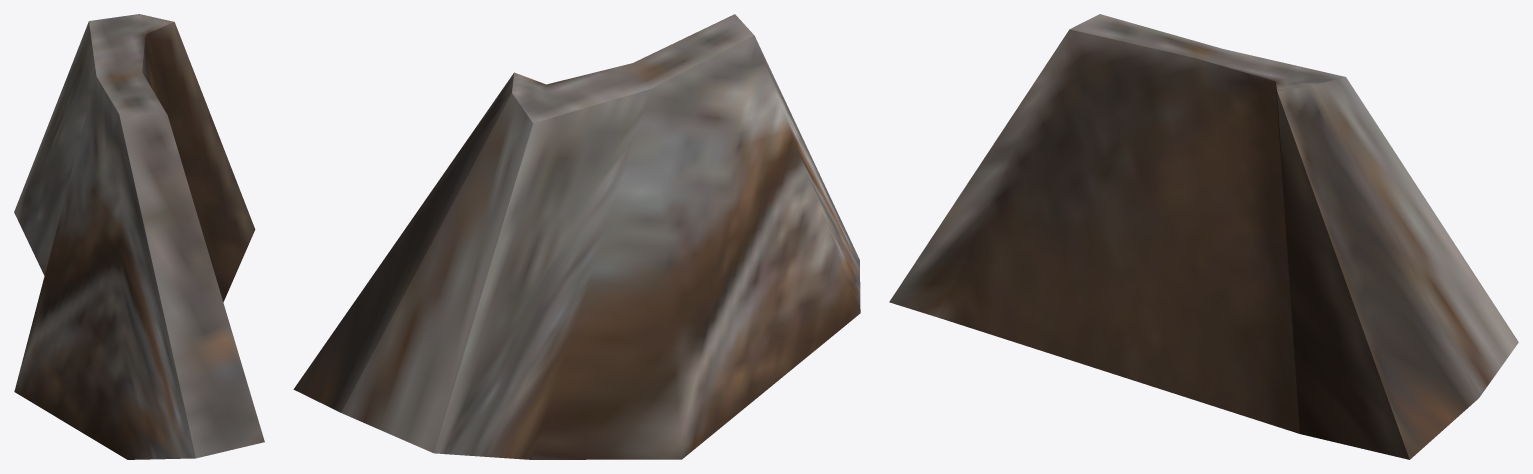
File: plane_wreckage_debris_micro_03.dae
The picture shows the model from 3 angles, left to right: view 1: azimuth 30°, elevation 25°; view 2: azimuth 150°, elevation 25°; view 3: azimuth 270°, elevation 25°; orthographic projection. The views are drawn at different scales.
Visible parts, largest first — view 1: pasted__plane_wreckage_wing4; view 2: pasted__plane_wreckage_wing4; view 3: pasted__plane_wreckage_wing4.
Part boxes in pixels (x1,y1,x2,y2): pasted__plane_wreckage_wing4: (14,14,264,459); pasted__plane_wreckage_wing4: (293,14,860,459); pasted__plane_wreckage_wing4: (889,14,1518,459).
Bounding box in the file's own units: 9.9 × 9.56 × 15.84.
